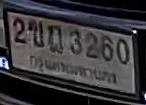number: (11, 16, 132, 66)
province: (28, 53, 118, 87)
